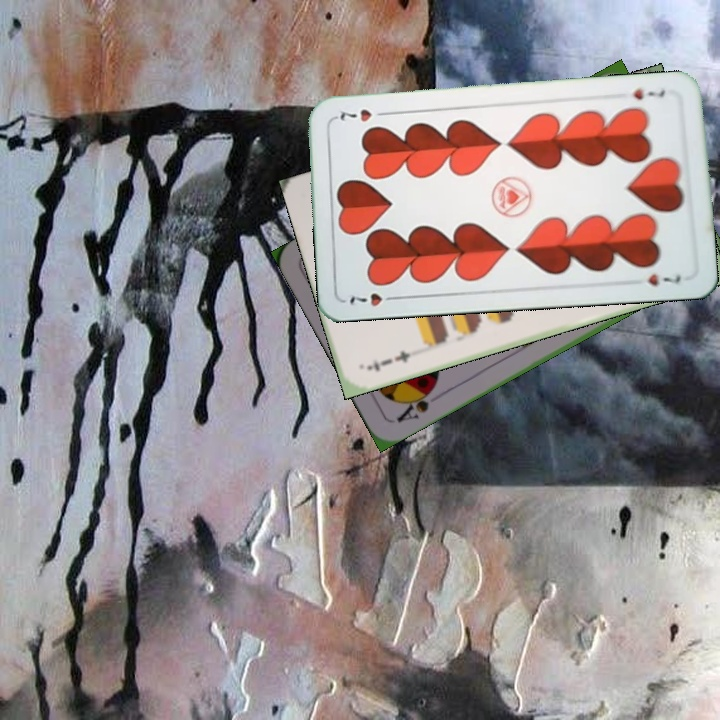E7: (363, 346, 413, 374)
H7: (346, 289, 402, 309), (629, 84, 668, 103)
SA: (392, 381, 439, 426)
